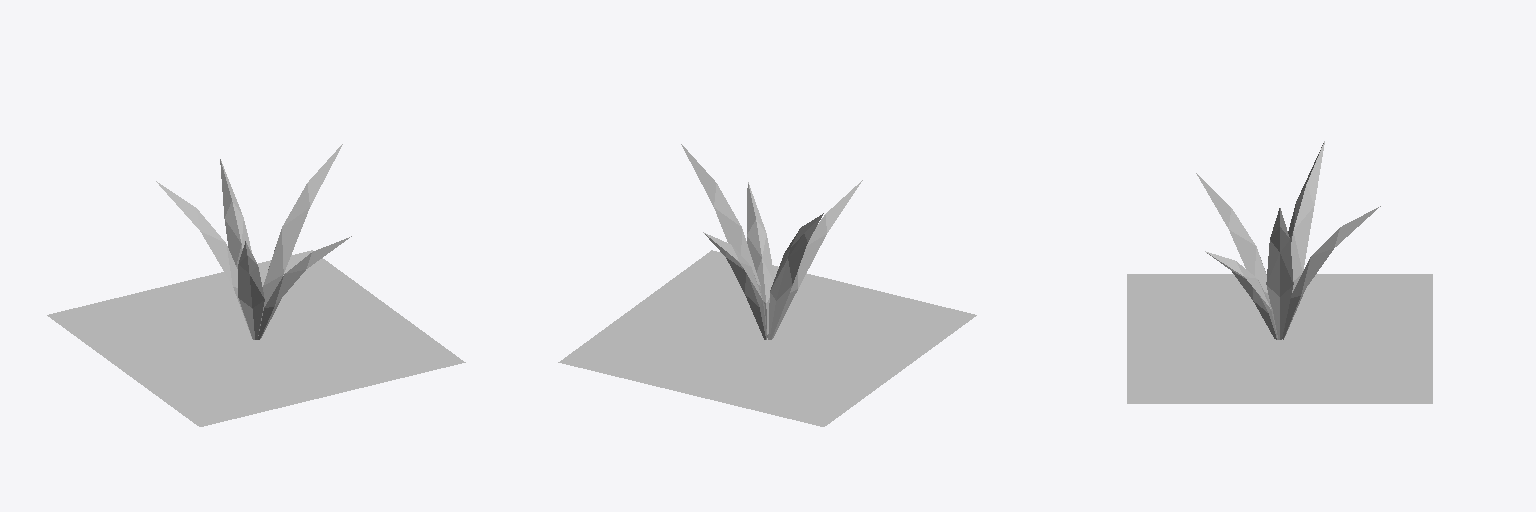
File: tall_grass.obj
The picture shows the model from 3 angles: view 1: azimuth 30°, elevation 25°; view 2: azimuth 150°, elevation 25°; view 3: azimuth 270°, elevation 25°; orthographic projection.
Visible parts, largest first — view 1: mergedBlocks; view 2: mergedBlocks; view 3: mergedBlocks.
Part boxes in pixels (x1,y1,x2,y2): mergedBlocks: (47, 144, 465, 426); mergedBlocks: (558, 144, 976, 426); mergedBlocks: (1127, 141, 1432, 403).
Bounding box in the file's own units: 1 × 0.6656 × 1.